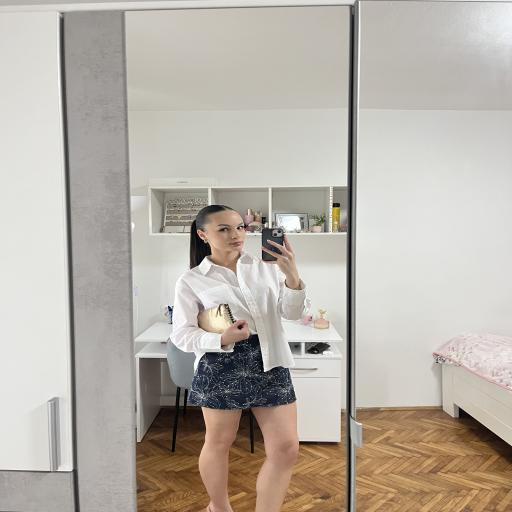marija: (200, 209, 246, 251)
